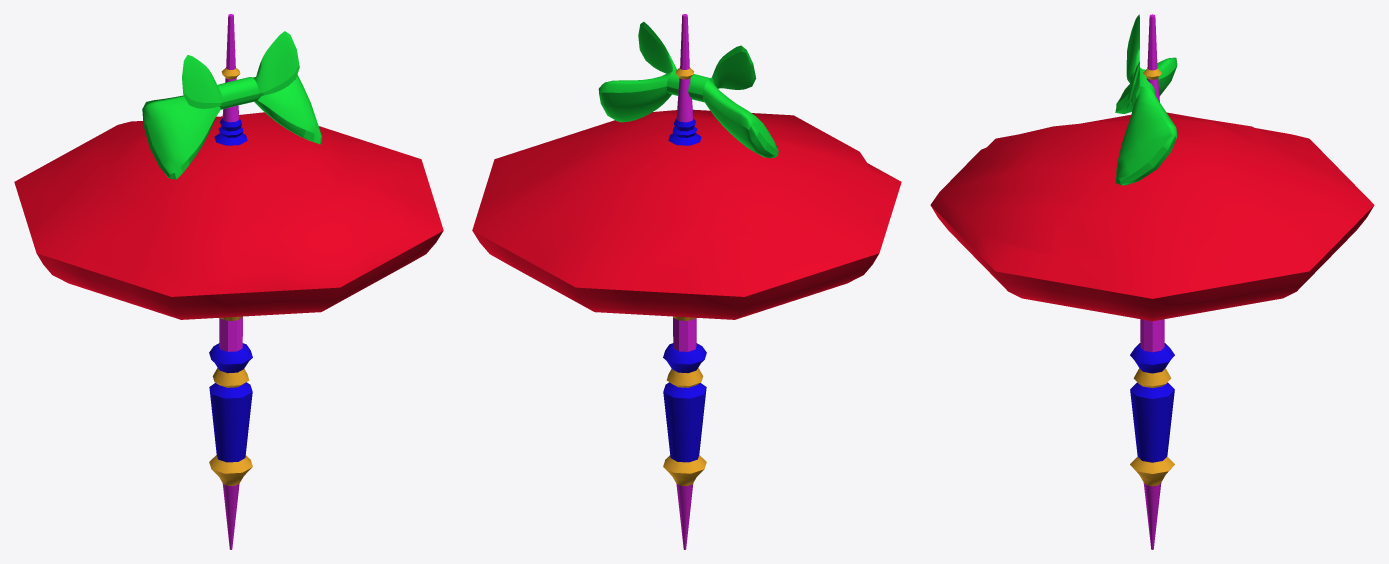
File: Parasolka Gobug .fbx
3 views of the same model, side by side, from view 1: azimuth 30°, elevation 25°; view 2: azimuth 150°, elevation 25°; view 3: azimuth 270°, elevation 25° (orthographic).
Visible parts, largest first — view 1: Cylinder.006; view 2: Cylinder.006; view 3: Cylinder.006.
Part boxes in pixels (box(x1,y1,x2,y2)): Cylinder.006: box(14, 14, 443, 549); Cylinder.006: box(472, 14, 901, 549); Cylinder.006: box(930, 14, 1374, 549).
Bounding box in the file's own units: 800 × 1060 × 800.
